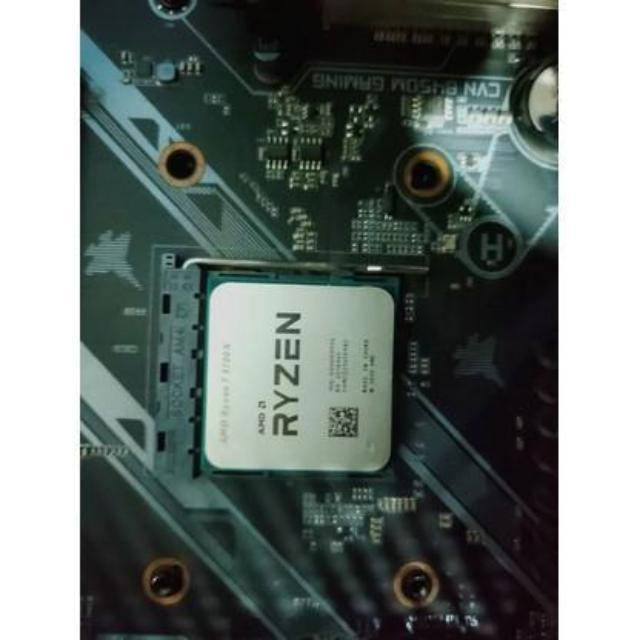CPU: (203, 278, 392, 472)
